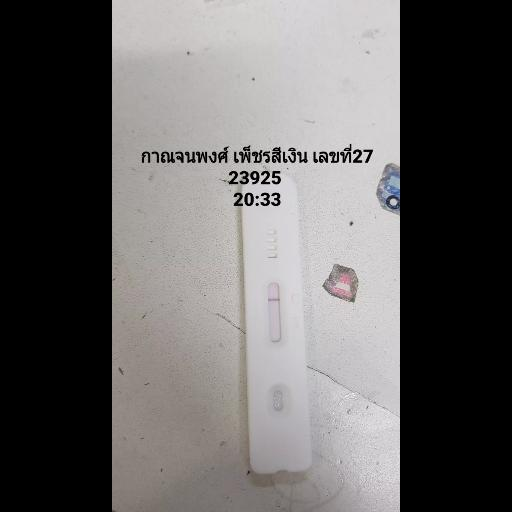Neg: (240, 172, 313, 475)
